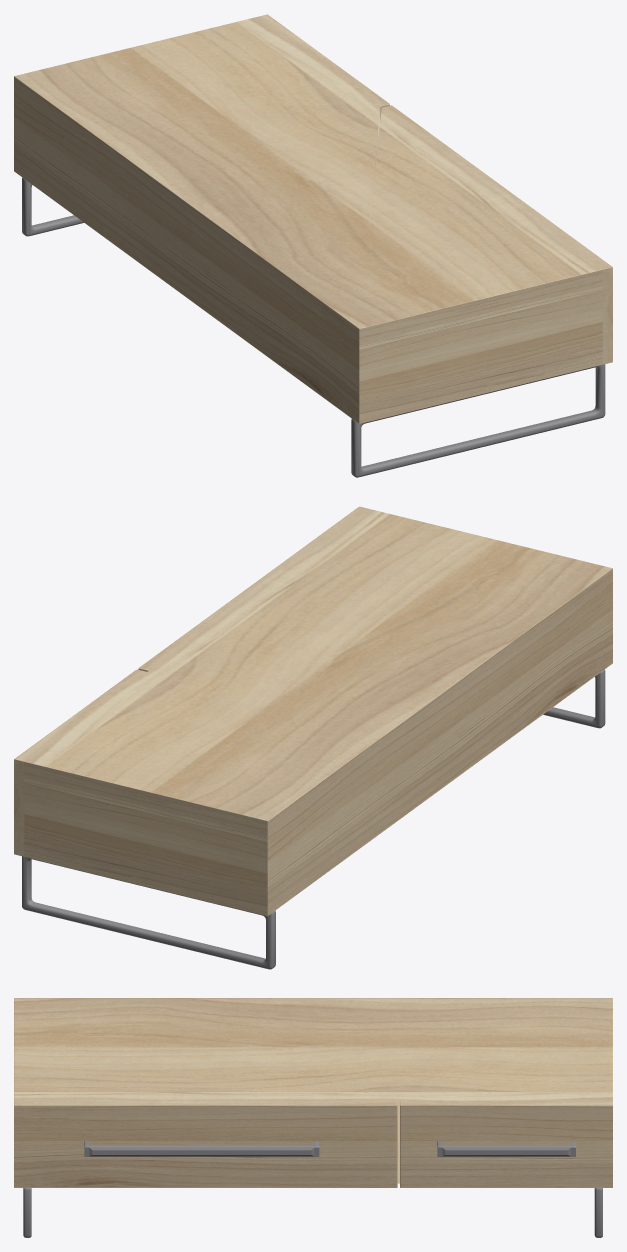
The model's file is TV Table.fbx.
The picture shows the model from 3 angles, top to bottom: view 1: azimuth 30°, elevation 25°; view 2: azimuth 150°, elevation 25°; view 3: azimuth 270°, elevation 25°; orthographic projection. The views are drawn at different scales.
Parts seen in each view (by area): view 1: Modern storage table birch_1, food_0; view 2: Modern storage table birch_1, food_0; view 3: Modern storage table birch_1, food_0.
Part boxes in pixels (x1,y1,x2,y2): Modern storage table birch_1: (14, 14, 612, 423); food_0: (22, 177, 605, 477); Modern storage table birch_1: (14, 506, 612, 915); food_0: (22, 669, 605, 969); Modern storage table birch_1: (14, 998, 612, 1187); food_0: (23, 1141, 602, 1237).
Bounding box in the file's own units: 223 × 123 × 496.
